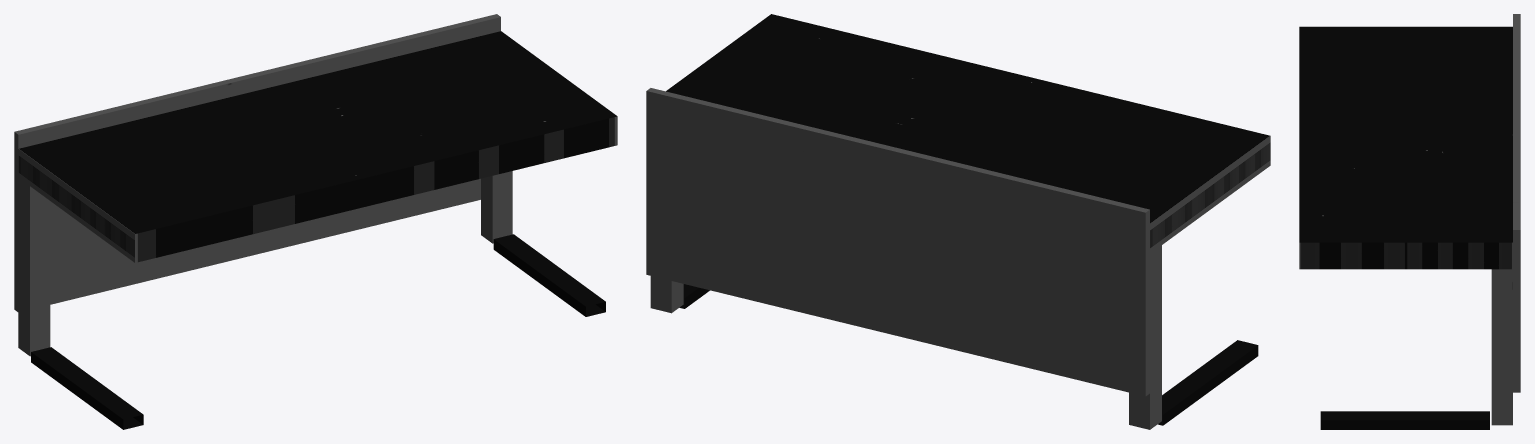
Rendered from GDD Generic Desk.fbx.
3 renders of one model, left to right at view 1: azimuth 30°, elevation 25°; view 2: azimuth 150°, elevation 25°; view 3: azimuth 270°, elevation 25°, orthographic. The views are drawn at different scales.
Parts seen in each view (by area): view 1: Computer_Desk1; view 2: Computer_Desk1; view 3: Computer_Desk1.
Boxes of the visible parts, x1,y1,x2,y2 form: Computer_Desk1: (14,14,617,429); Computer_Desk1: (646,14,1270,429); Computer_Desk1: (1299,14,1520,429).
Size of the model in its own units: 167 by 72.33 by 72.5.
